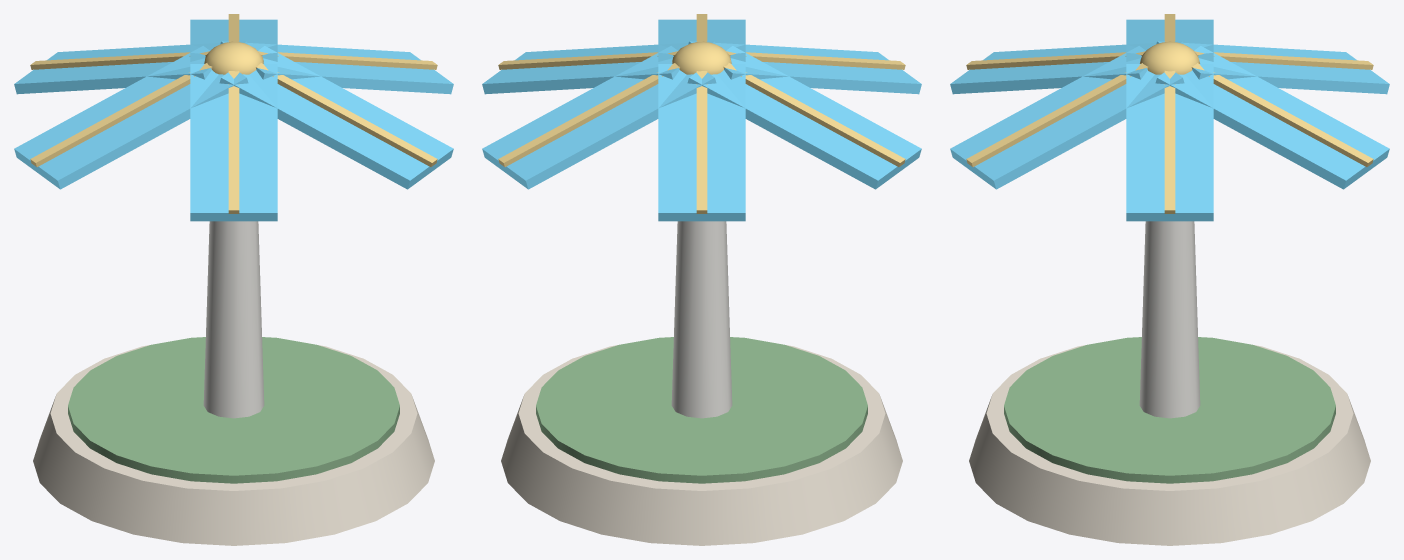
File: vn_shade.src.glb
3 views of the same model, side by side, from view 1: azimuth 30°, elevation 25°; view 2: azimuth 150°, elevation 25°; view 3: azimuth 270°, elevation 25° (orthographic).
Size of the model in its own units: 1.06 by 1.05 by 1.01.
